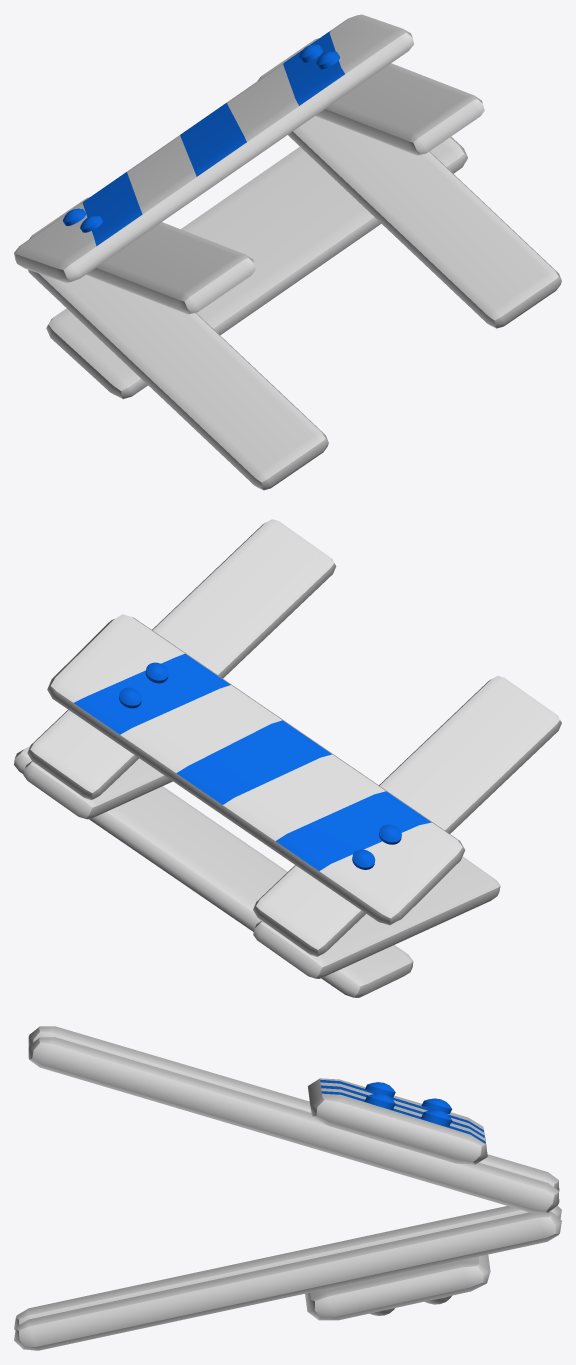
3 views of the same model, one above another, from view 1: azimuth 30°, elevation 25°; view 2: azimuth 150°, elevation 25°; view 3: azimuth 270°, elevation 25° (orthographic). The views are drawn at different scales.
Visible parts, largest first — view 1: polySurface738; view 2: polySurface738; view 3: polySurface738.
Part boxes in pixels (left/top/right/bottom): polySurface738: left=14, top=14, right=561, bottom=490; polySurface738: left=14, top=519, right=561, bottom=997; polySurface738: left=14, top=1026, right=561, bottom=1350.
Size of the model in its own units: 284 by 223 by 259.
